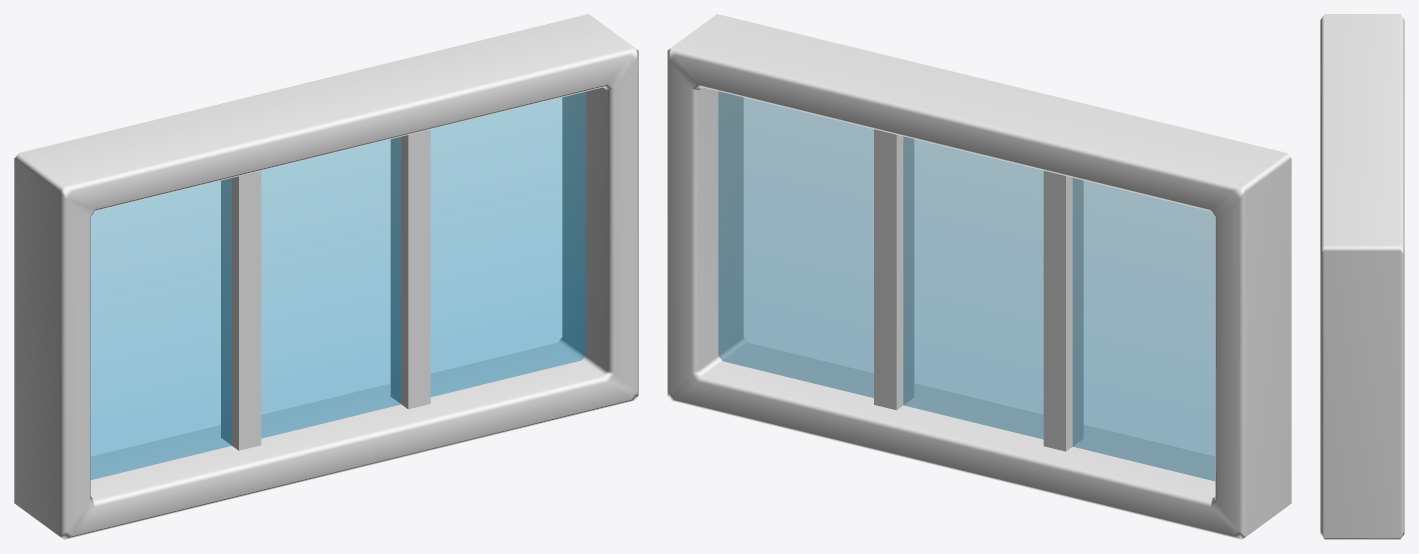
File: Window_White_07.glb
3 views of the same model, side by side, from view 1: azimuth 30°, elevation 25°; view 2: azimuth 150°, elevation 25°; view 3: azimuth 270°, elevation 25° (orthographic). The views are drawn at different scales.
Parts seen in each view (by area): view 1: Window_White_07; view 2: Window_White_07; view 3: Window_White_07.
Boxes of the visible parts, bbox=[...] form: Window_White_07: bbox=[14, 14, 638, 539]; Window_White_07: bbox=[667, 14, 1291, 539]; Window_White_07: bbox=[1320, 14, 1404, 539].
Bounding box in the file's own units: 2.64 × 1.54 × 0.4.
2 materials, 2 textured.
